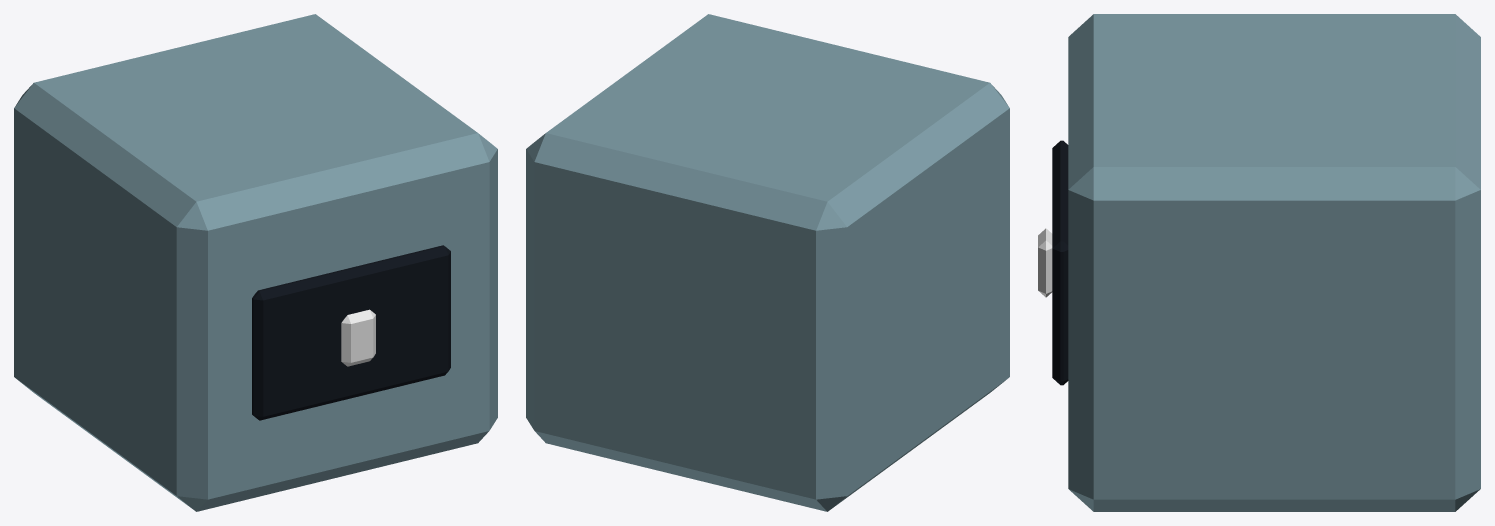
Rendered from Crate.fbx.
3 views of the same model, side by side, from view 1: azimuth 30°, elevation 25°; view 2: azimuth 150°, elevation 25°; view 3: azimuth 270°, elevation 25° (orthographic). The views are drawn at different scales.
Parts seen in each view (by area): view 1: Crate_Mesh; view 2: Crate_Mesh; view 3: Crate_Mesh.
Part boxes in pixels (x1,y1,x2,y2): Crate_Mesh: (14, 14, 497, 511); Crate_Mesh: (526, 14, 1009, 511); Crate_Mesh: (1038, 14, 1480, 511).
Size of the model in its own units: 130 by 120 by 140.
